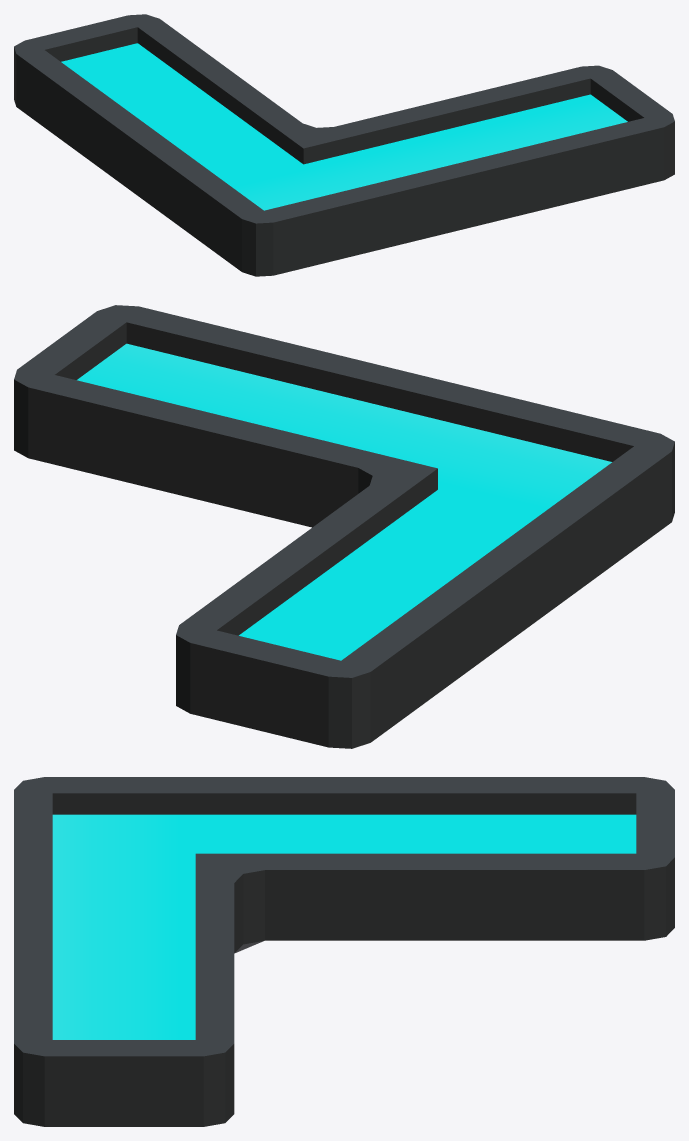
Rendered from LightCorner_02.glb.
The picture shows the model from 3 angles, top to bottom: view 1: azimuth 30°, elevation 25°; view 2: azimuth 150°, elevation 25°; view 3: azimuth 270°, elevation 25°; orthographic projection. The views are drawn at different scales.
Parts seen in each view (by area): view 1: LightCorner_02; view 2: LightCorner_02; view 3: LightCorner_02.
Part boxes in pixels (x1,y1,x2,y2): LightCorner_02: (14,14,674,276); LightCorner_02: (14,305,674,748); LightCorner_02: (14,777,674,1126).
Size of what is drawn, in the model's own units: 2 by 0.2357 by 2.
1 material, 1 textured.
